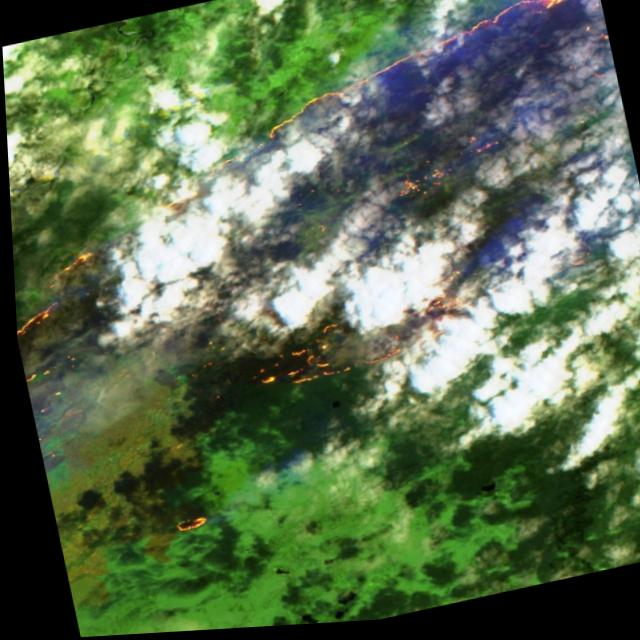fire: (0, 0, 640, 451), (154, 503, 222, 553)
